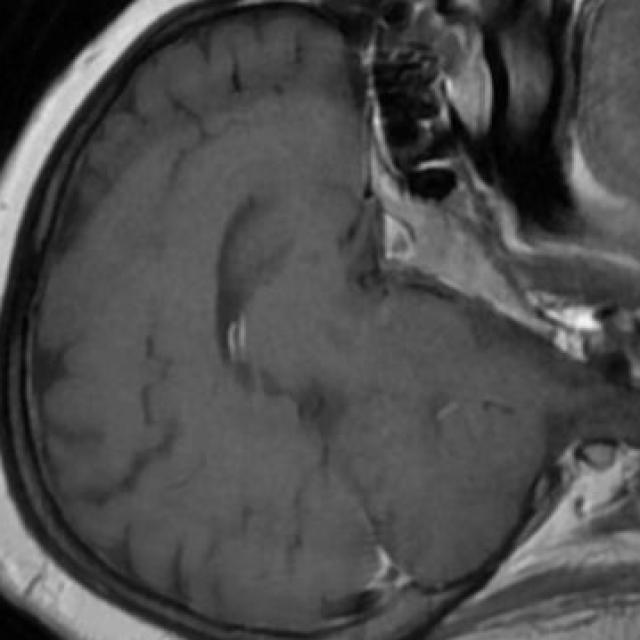pituitary: (382, 216, 412, 271)
